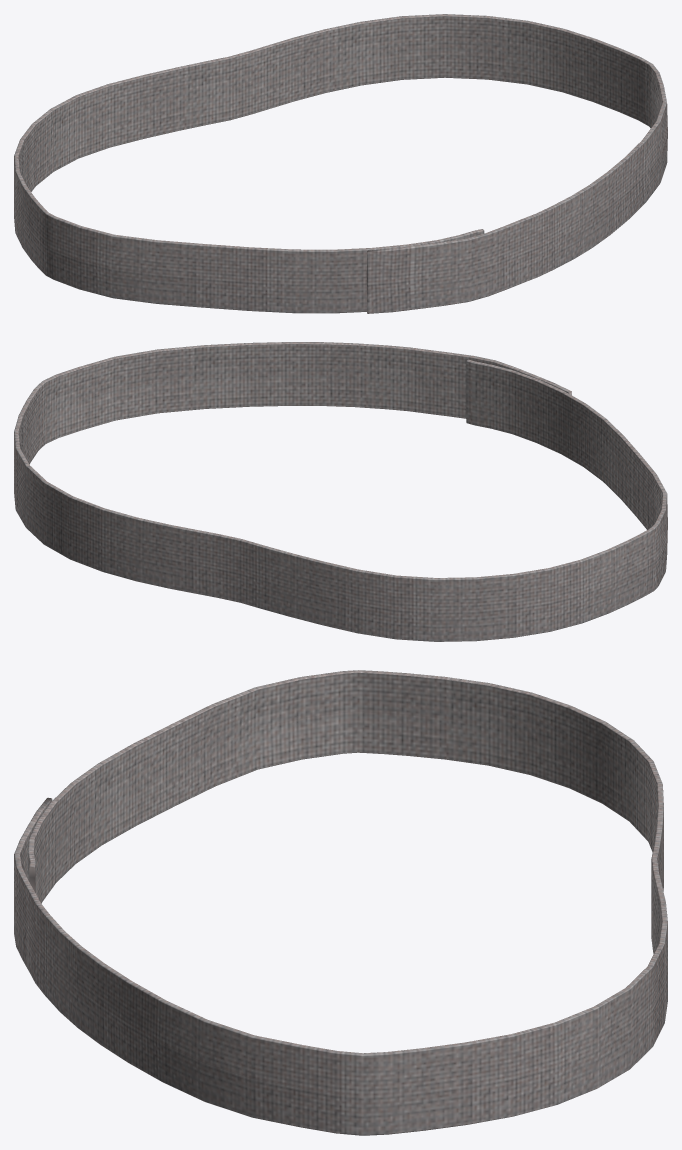
Rendered from 4cm standard_hidden_button update.glb.
3 views of the same model, one above another, from view 1: azimuth 30°, elevation 25°; view 2: azimuth 150°, elevation 25°; view 3: azimuth 270°, elevation 25° (orthographic). The views are drawn at different scales.
Visible parts, largest first — view 1: standard_hidden_button_4cm; view 2: standard_hidden_button_4cm; view 3: standard_hidden_button_4cm.
Boxes of the visible parts, bbox=[...] form: standard_hidden_button_4cm: bbox=[14, 14, 667, 313]; standard_hidden_button_4cm: bbox=[14, 342, 667, 641]; standard_hidden_button_4cm: bbox=[14, 670, 667, 1135].
Size of the model in its own units: 0.047 by 0.0046 by 0.0336.
1 material, 1 textured.
